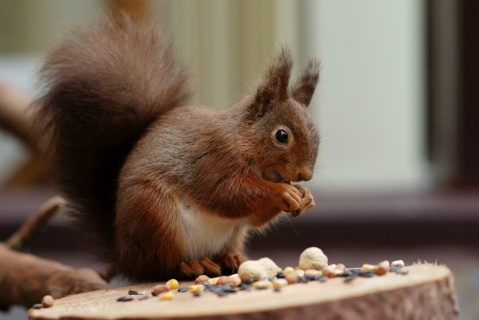Squirrel: (19, 6, 340, 278)
